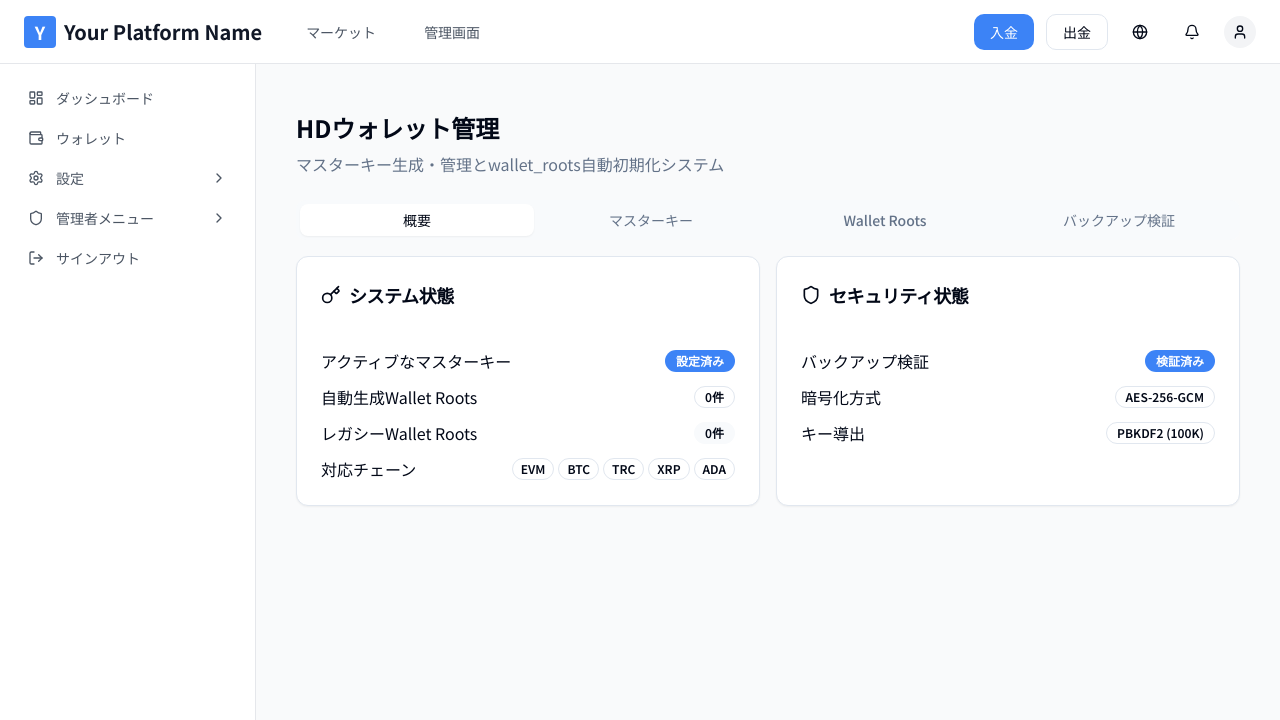
Scenario: WalletAdmin - HDウォレット管理 › ニーモニック確認機能 › 「ニーモニック確認」ボタンが表示される
This screenshot has width=1280, height=720.
Note: マスターキータブをクリック
Click the tab "マスターキー" at (651, 220), box top-left (534, 204), bottom-right (768, 236)
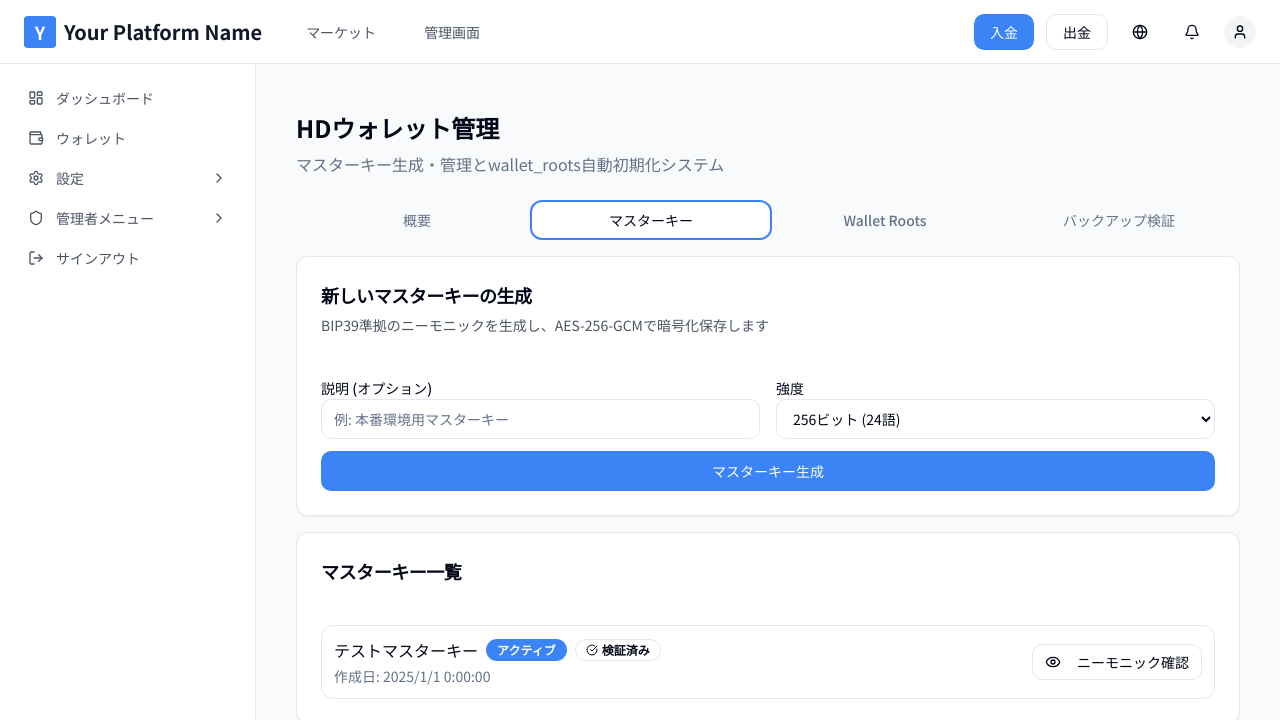
Result: the button "ニーモニック確認" is shown at top-left (1032, 644), bottom-right (1202, 680)
